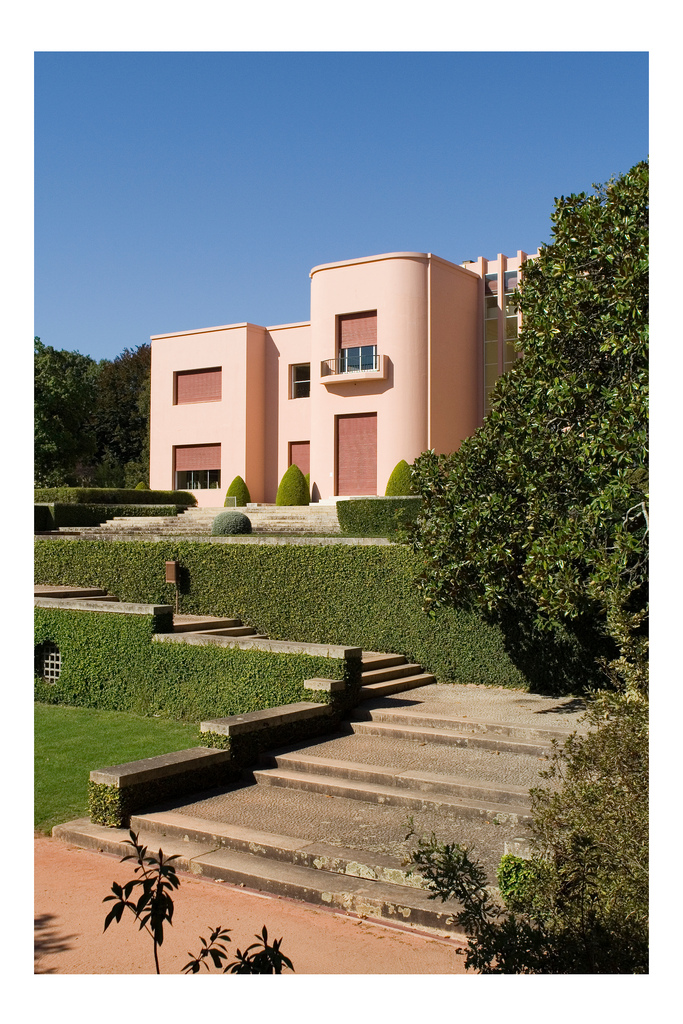serralves: (145, 240, 555, 506)
